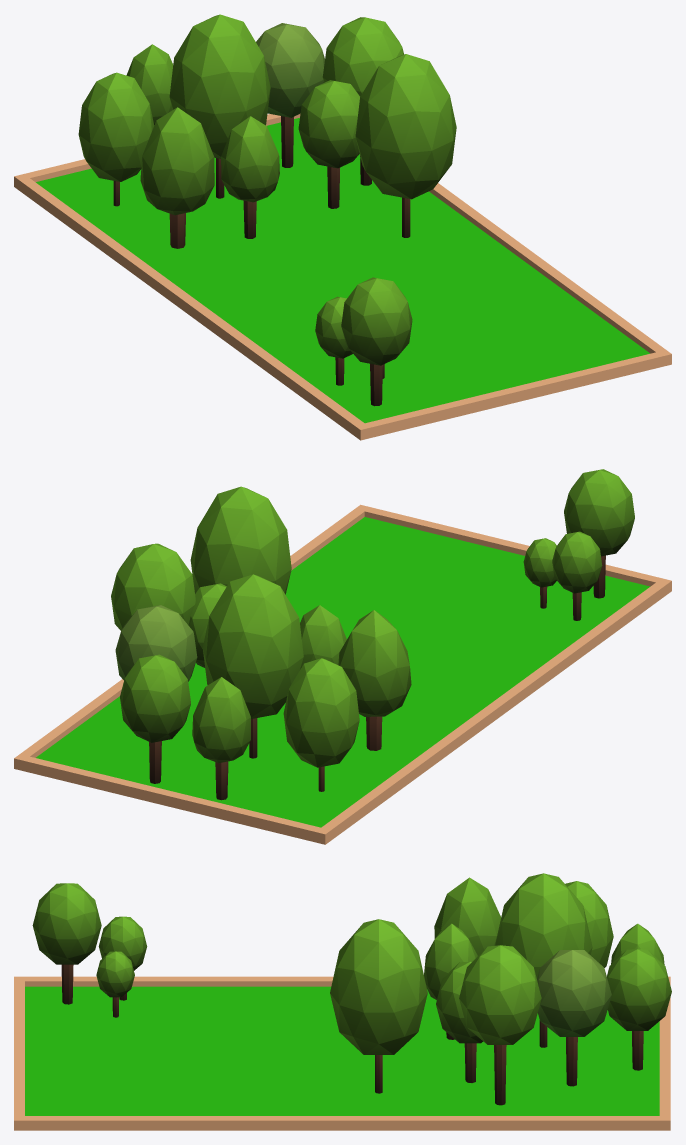
Rendered from block4.fbx.
3 views of the same model, one above another, from view 1: azimuth 30°, elevation 25°; view 2: azimuth 150°, elevation 25°; view 3: azimuth 270°, elevation 25° (orthographic). The views are drawn at different scales.
Parts seen in each view (by area): view 1: Cube.558; view 2: Cube.558; view 3: Cube.558.
Boxes of the visible parts, x1,y1,x2,y2 form: Cube.558: (14,14,671,440); Cube.558: (14,469,671,844); Cube.558: (14,873,671,1130).
Bounding box in the file's own units: 28.34 × 17.57 × 54.75.
Materials: 1 (1 with a texture image).
